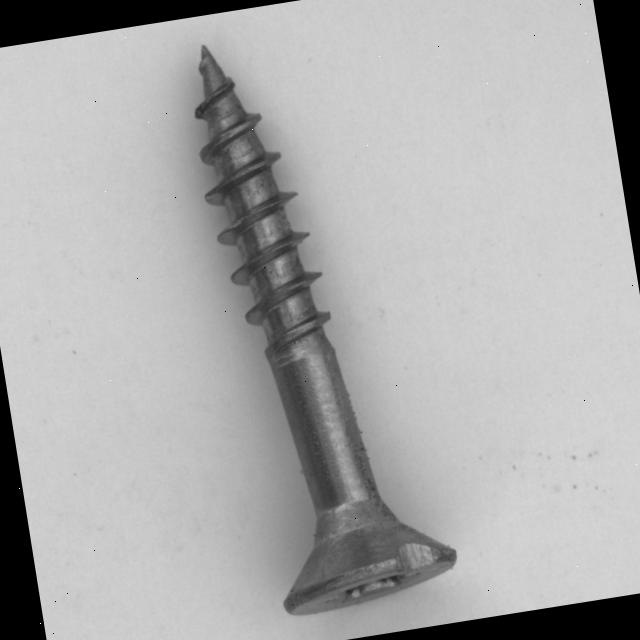scratch_head: (387, 537, 448, 581)
